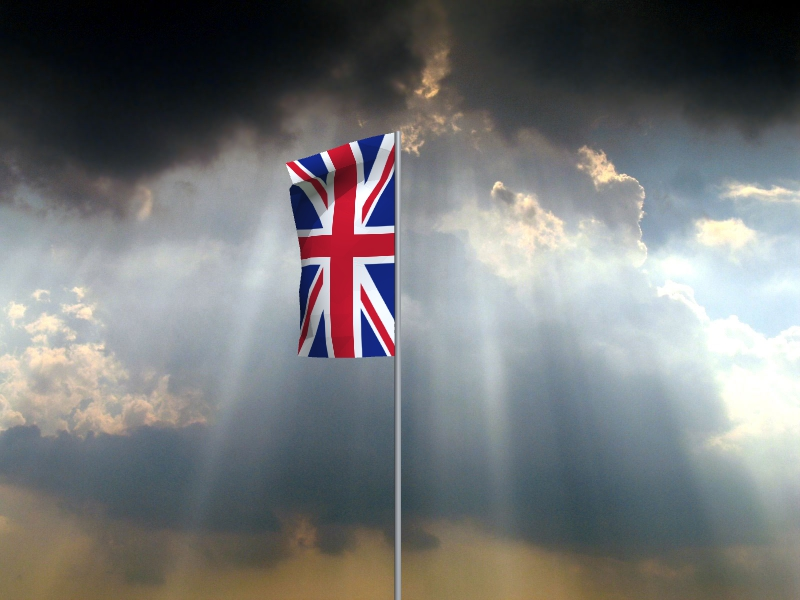gb: (285, 134, 395, 360)
